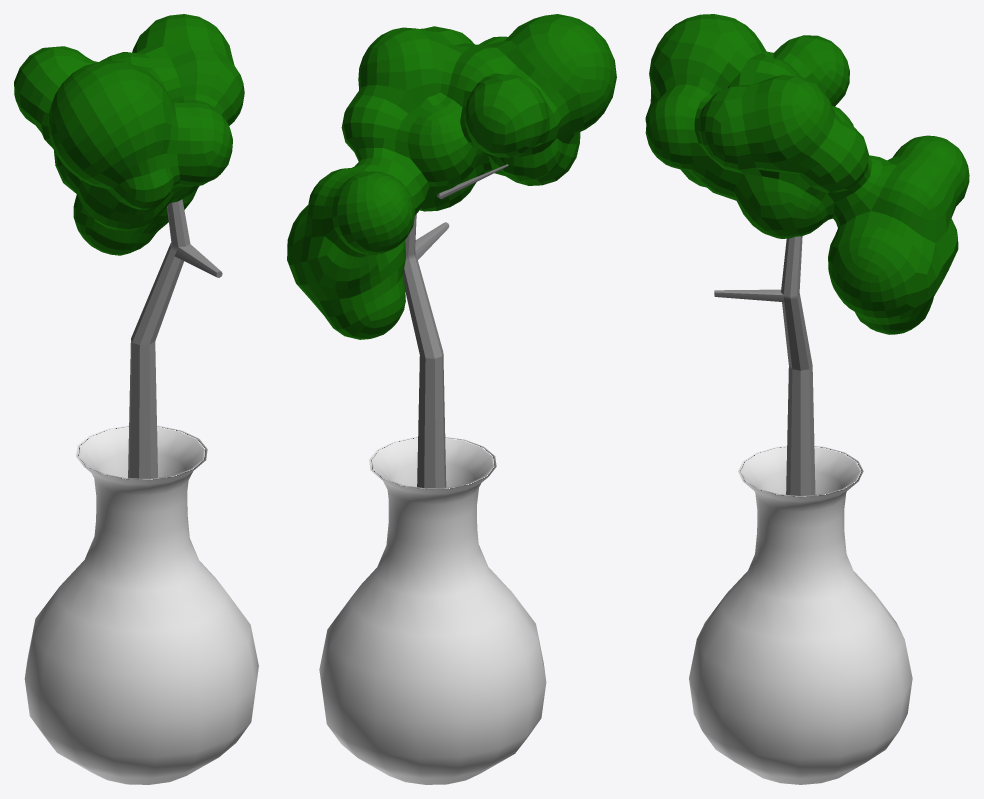
File: GardenPotPlant.fbx
The picture shows the model from 3 angles, left to right: view 1: azimuth 30°, elevation 25°; view 2: azimuth 150°, elevation 25°; view 3: azimuth 270°, elevation 25°; orthographic projection. The views are drawn at different scales.
Visible parts, largest first — view 1: polySurface53; view 2: polySurface53; view 3: polySurface53.
Part boxes in pixels (<box>): polySurface53: <box>14,14,258,784</box>; polySurface53: <box>287,14,616,784</box>; polySurface53: <box>645,14,969,784</box>.
Bounding box in the file's own units: 1.12 × 3.39 × 1.41.
